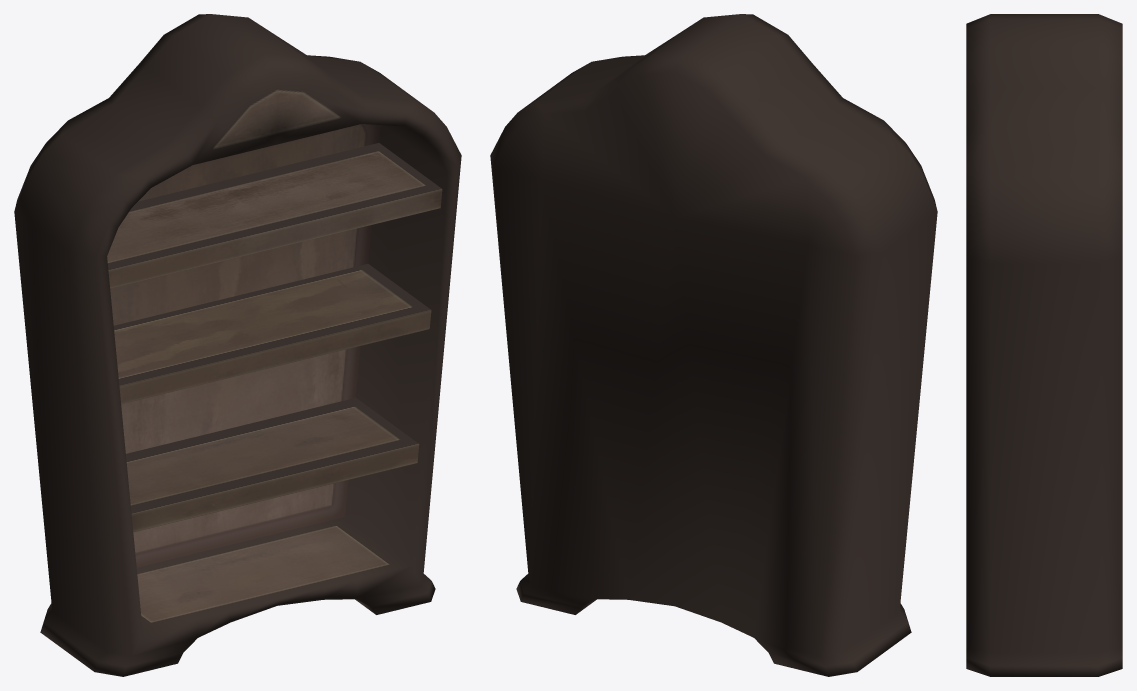
File: bookshelftest.fbx
3 renders of one model, left to right at view 1: azimuth 30°, elevation 25°; view 2: azimuth 150°, elevation 25°; view 3: azimuth 270°, elevation 25°, orthographic.
Visible parts, largest first — view 1: bookshelftest; view 2: bookshelftest; view 3: bookshelftest.
Boxes of the visible parts, <box> form: bookshelftest: <box>14,14,461,676</box>; bookshelftest: <box>490,14,937,676</box>; bookshelftest: <box>966,14,1122,676</box>.
Bounding box in the file's own units: 1.6 × 2.25 × 0.555.
